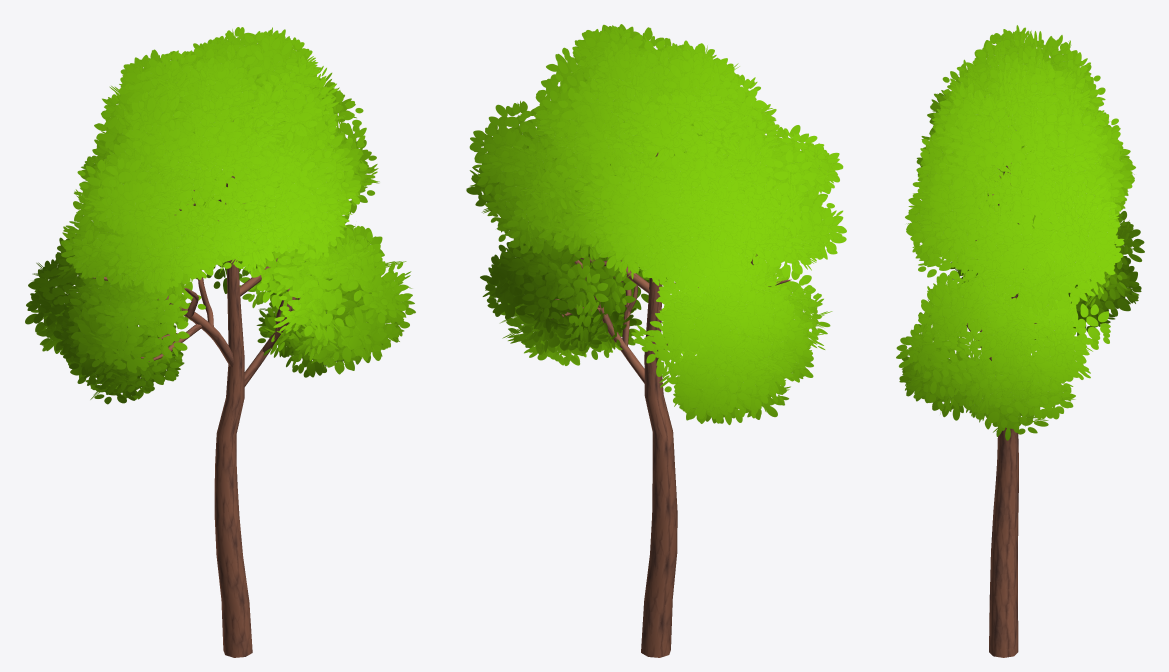
The model's file is broadleaf-tree.glb.
3 views of the same model, side by side, from view 1: azimuth 30°, elevation 25°; view 2: azimuth 150°, elevation 25°; view 3: azimuth 270°, elevation 25° (orthographic). The views are drawn at different scales.
Visible parts, largest first — view 1: Authored structure; view 2: Authored structure; view 3: Authored structure.
Boxes of the visible parts, <box> form: Authored structure: <box>25,27,415,657</box>; Authored structure: <box>466,24,846,657</box>; Authored structure: <box>896,25,1144,657</box>.
Size of the model in its own units: 4.05 by 6.87 by 2.74.
2 materials, 2 textured.
